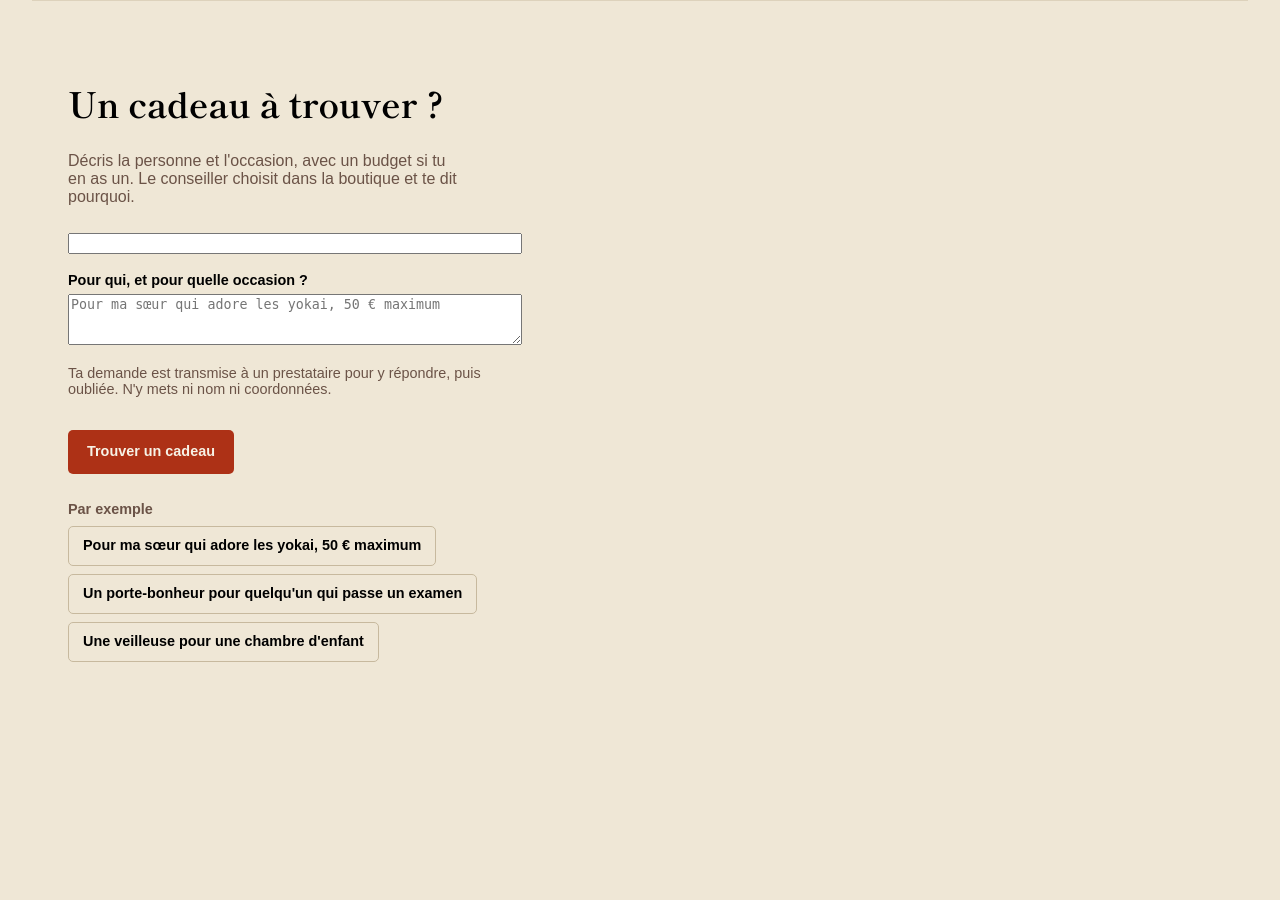
Scenario: Conseil cadeau › une demande trop courte est refusée sous le champ, sans appel
Click the button "Trouver un cadeau": [151, 452] box [68,430,234,474]
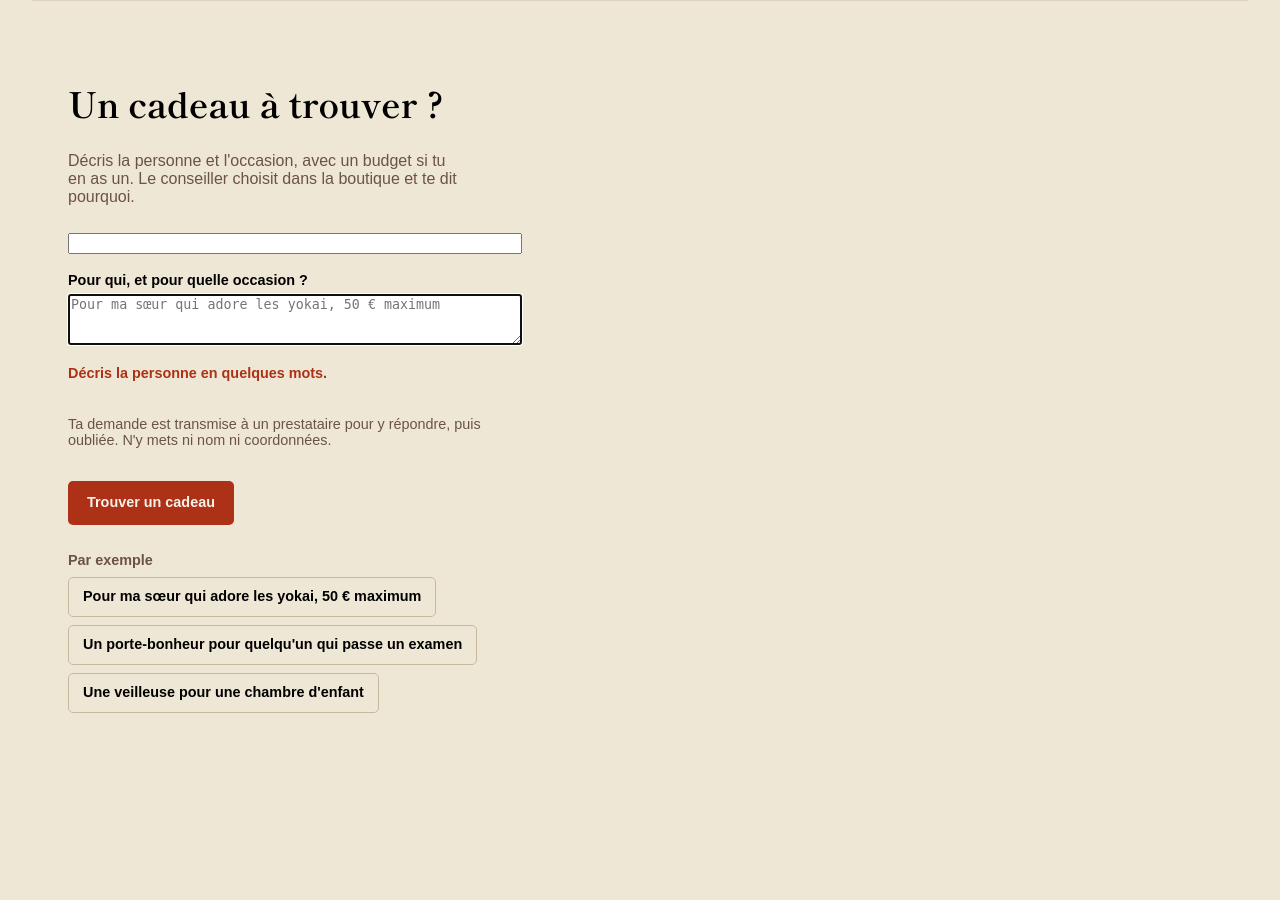
Expected: the text "Décris la personne en quelques mots." is shown, [68,365,327,381]
